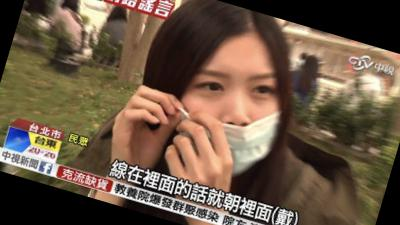mask_weared_incorrect: (164, 44, 298, 190)
